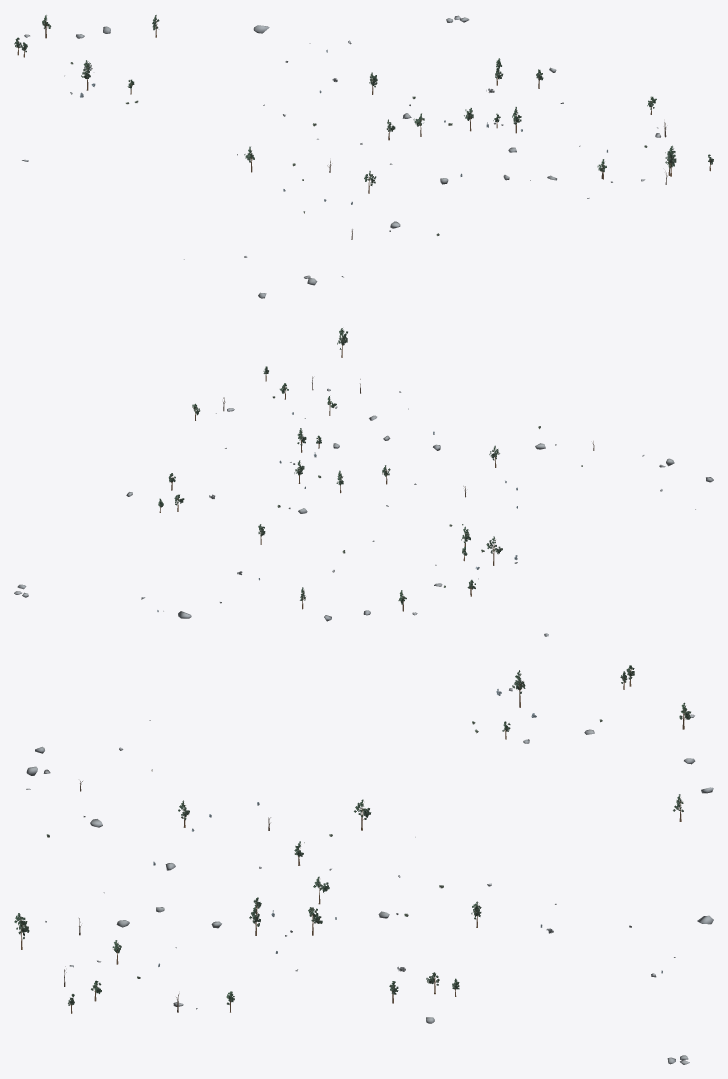
The model's file is frost_land_scatter_c17_10.glb.
3 views of the same model, one above another, from view 1: azimuth 30°, elevation 25°; view 2: azimuth 150°, elevation 25°; view 3: azimuth 270°, elevation 25° (orthographic). The views are drawn at different scales.
Visible parts, largest first — view 1: frost_land_scatter_c17_10; view 2: frost_land_scatter_c17_10; view 3: frost_land_scatter_c17_10.
Part boxes in pixels (x1,y1,x2,y2): frost_land_scatter_c17_10: (14,15,713,298); frost_land_scatter_c17_10: (14,328,713,636); frost_land_scatter_c17_10: (14,665,713,1064).
Bounding box in the file's own units: 253 × 56.74 × 255.
